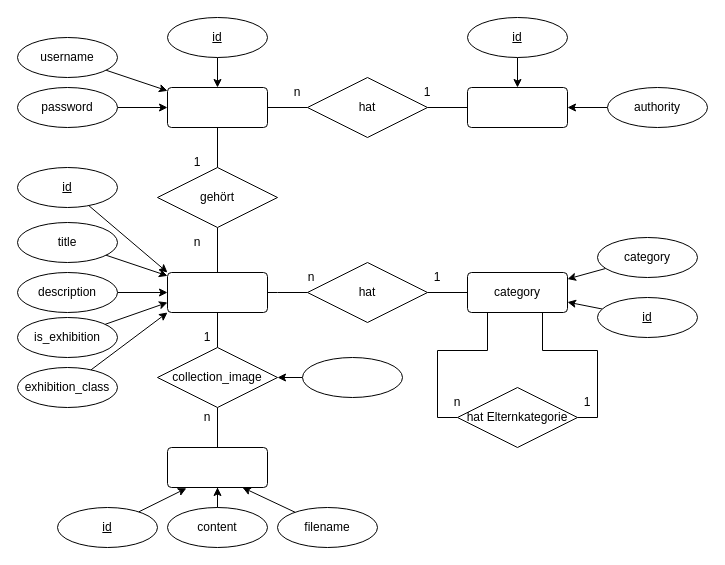
The diagram is 725 pixels wide and 565 high, and some of its shapes have lost their labels. The centre of each missing label's shape, as x and y in pixels:
"collection" goes at point (217, 292).
"image" goes at point (217, 467).
"order_id" goes at point (352, 377).
"role" goes at point (517, 107).
"user" goes at point (217, 107).
